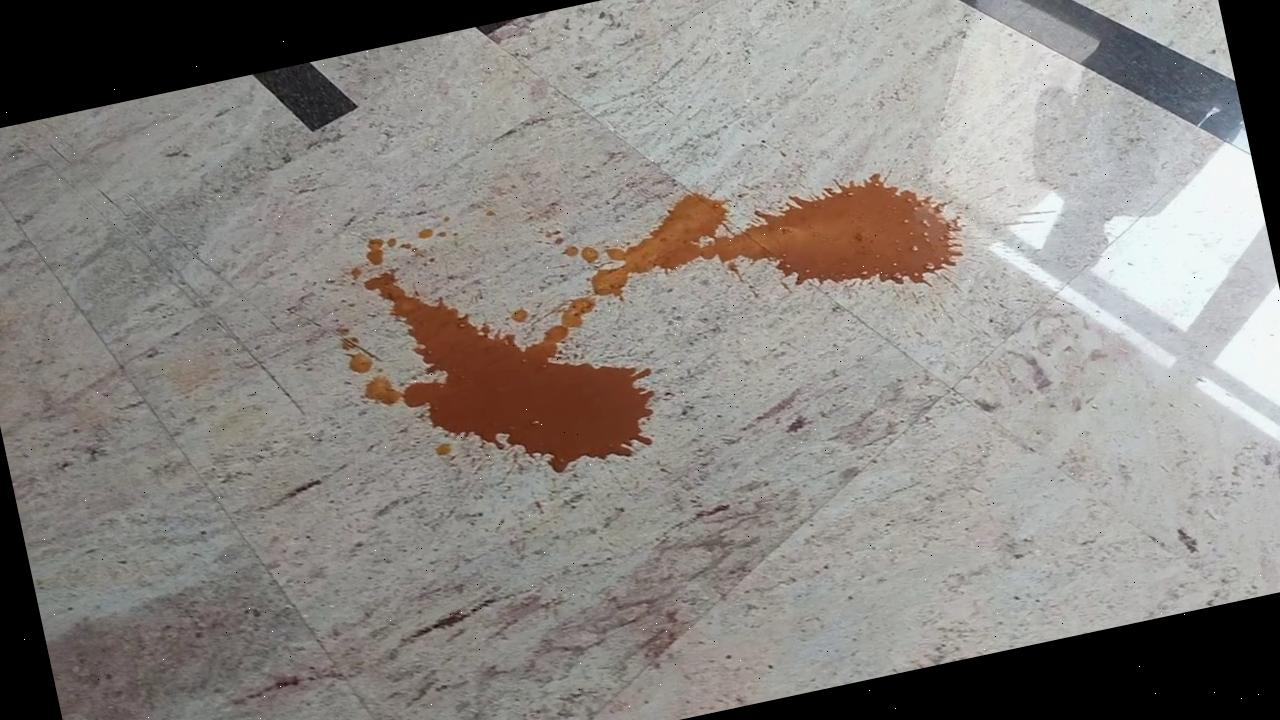dirty_floor: (325, 112, 996, 510)
